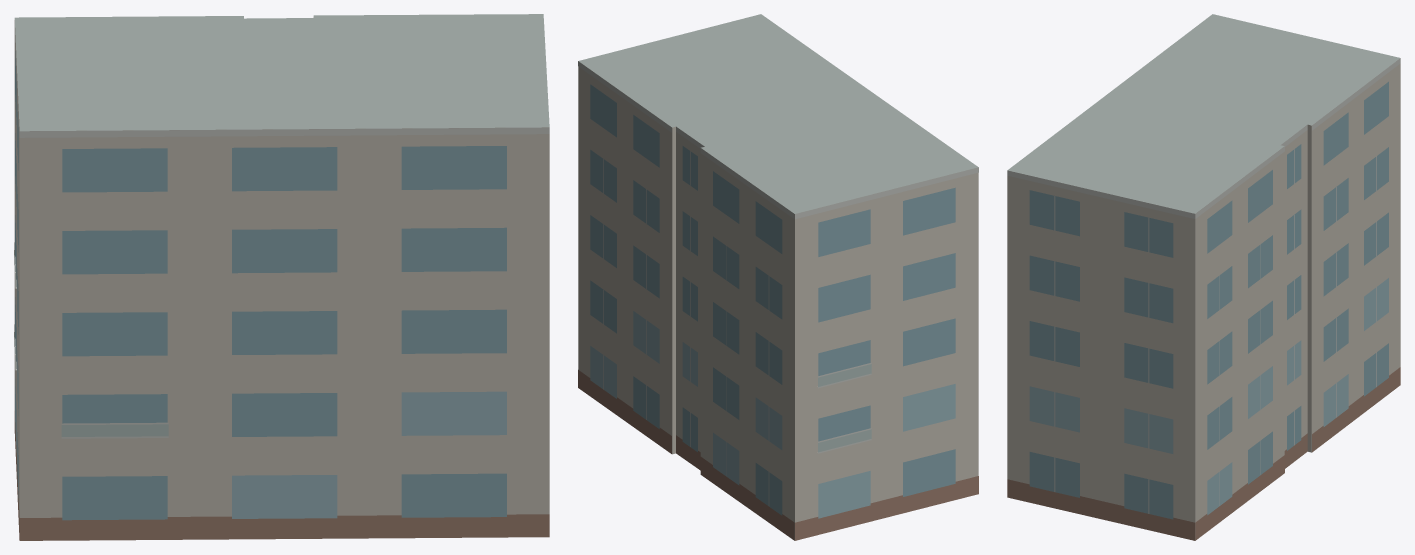
The model's file is survey-upis-32875998.glb.
The picture shows the model from 3 angles, left to right: view 1: azimuth 30°, elevation 25°; view 2: azimuth 150°, elevation 25°; view 3: azimuth 270°, elevation 25°; orthographic projection. The views are drawn at different scales.
Visible parts, largest first — view 1: survey-upis-32875998.tmp; view 2: survey-upis-32875998.tmp; view 3: survey-upis-32875998.tmp.
Boxes of the visible parts, x1=… form: survey-upis-32875998.tmp: x1=14, y1=14, x2=549, y2=540; survey-upis-32875998.tmp: x1=578, y1=14, x2=978, y2=540; survey-upis-32875998.tmp: x1=1007, y1=14, x2=1400, y2=540.
Bounding box in the file's own units: 19.67 × 15 × 16.36.
